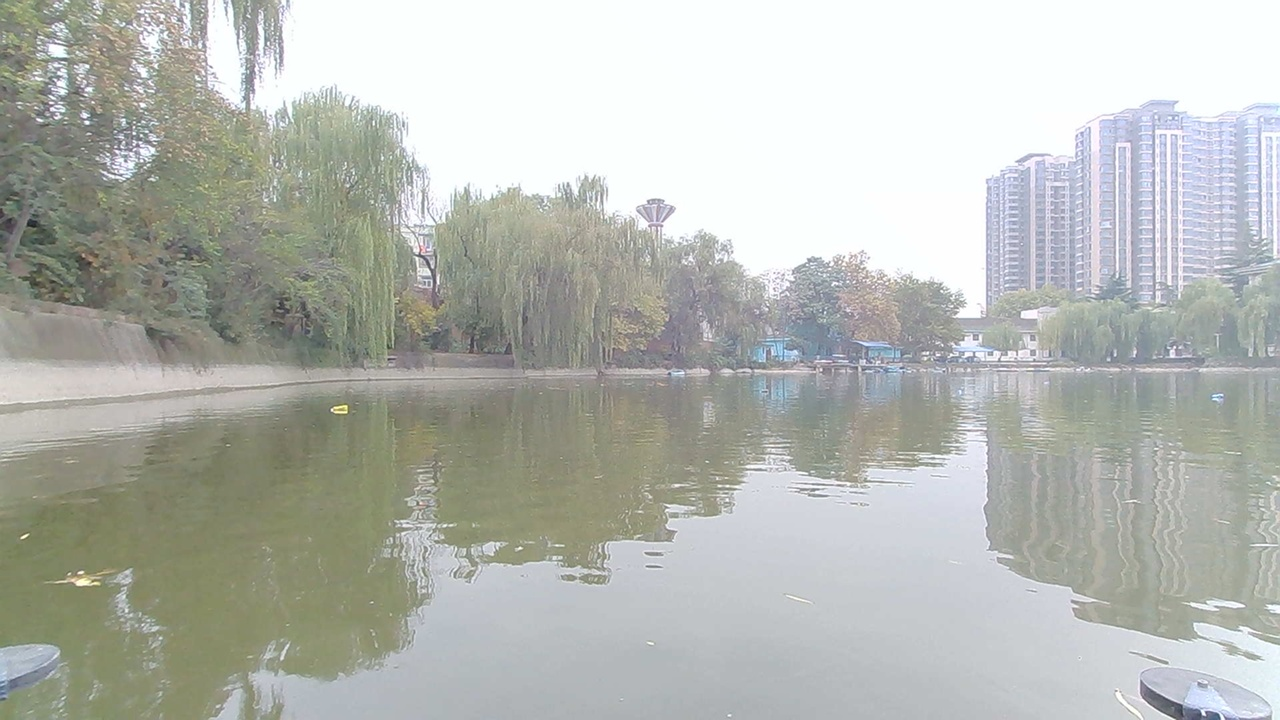bottle: (325, 396, 359, 419), (1205, 389, 1236, 412), (753, 386, 782, 401)
